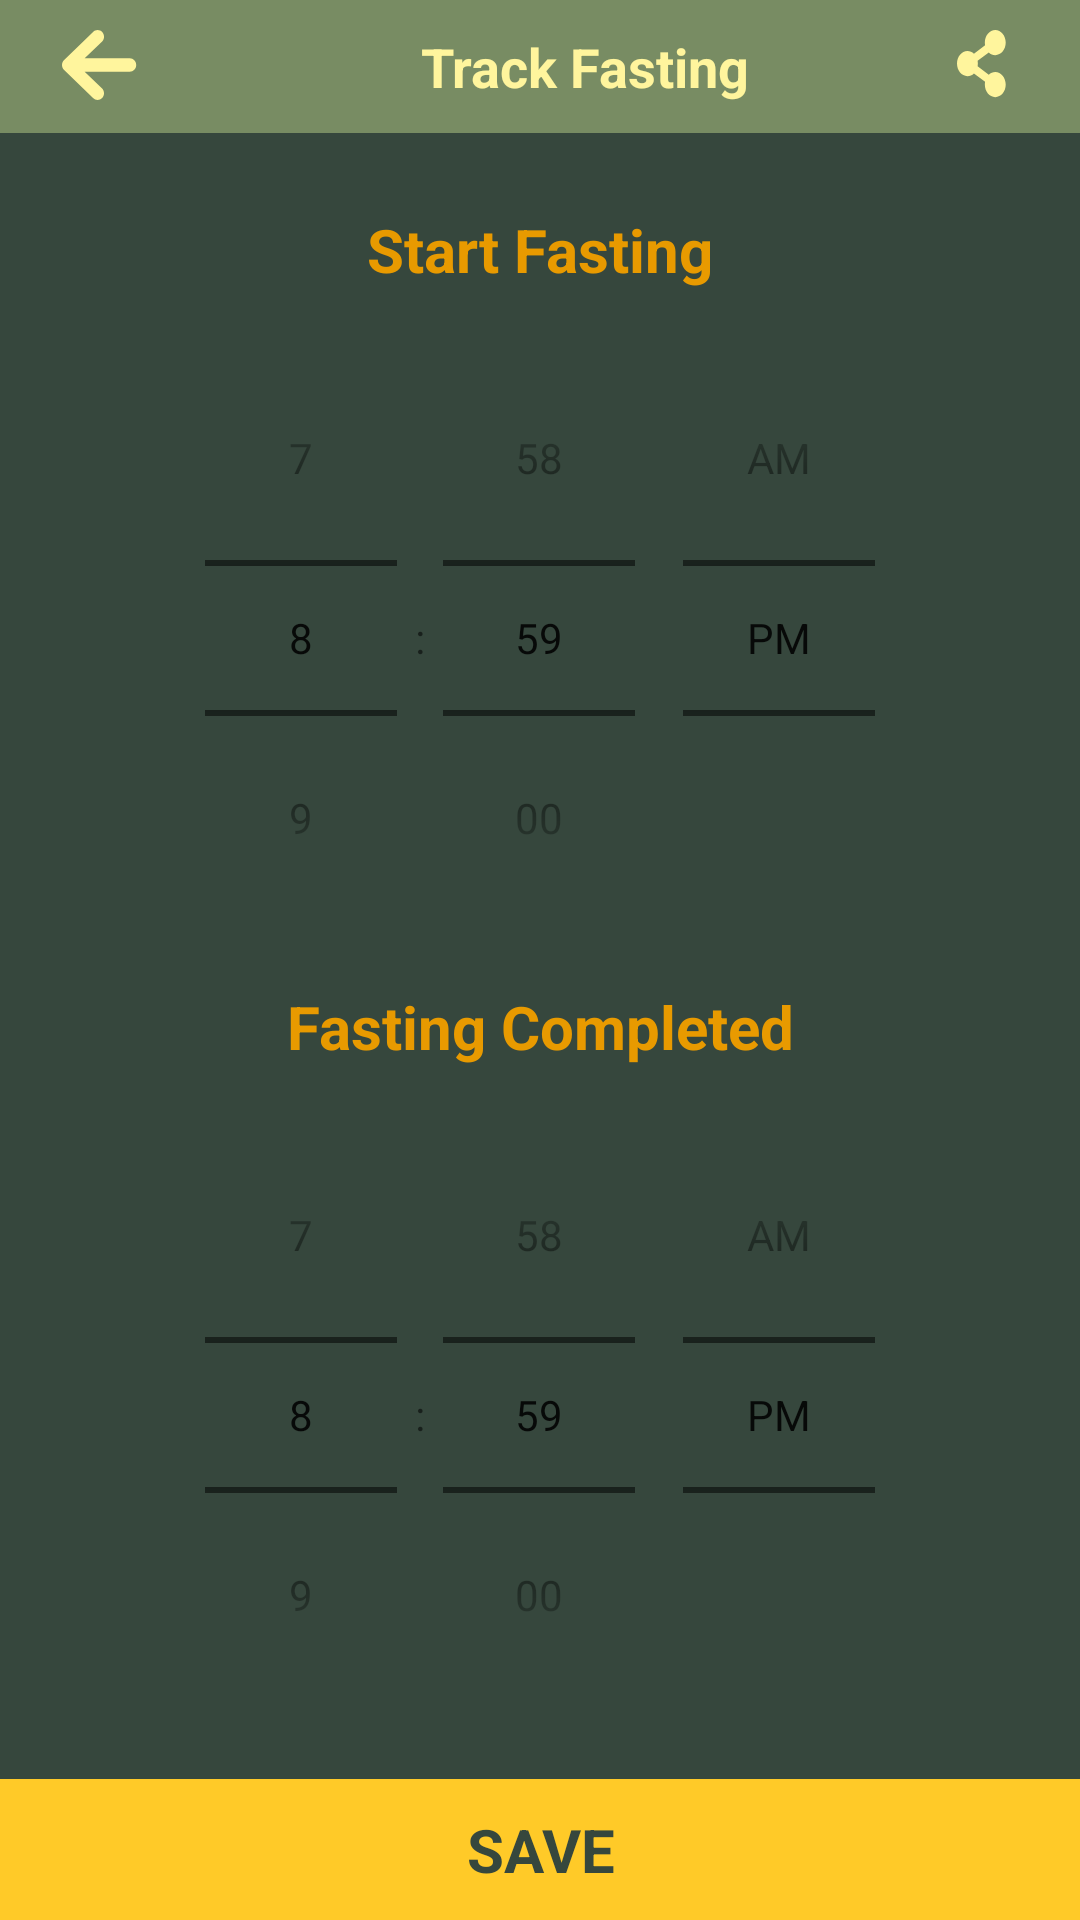

Locate icon controls on the screen. Image size 1080×1920, boxes as [left=x1, top=y1, right=x2, bottom=y2].
arrow: [left=62, top=30, right=136, bottom=100]
share: [left=957, top=30, right=1006, bottom=98]
